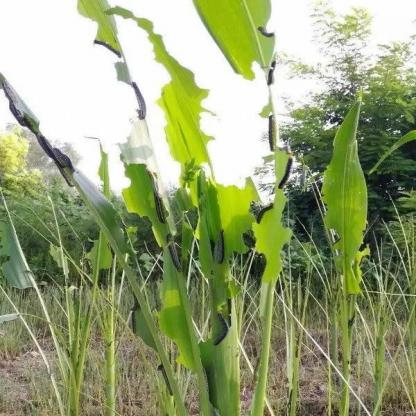armyworm: (146, 168, 169, 225), (130, 81, 151, 123), (93, 37, 126, 60), (276, 156, 296, 192), (166, 232, 184, 272), (48, 158, 71, 186), (54, 146, 76, 173), (213, 310, 229, 346), (214, 227, 228, 266), (157, 364, 173, 398), (7, 100, 27, 127), (256, 201, 276, 228), (265, 115, 277, 154), (36, 132, 53, 159), (23, 116, 39, 139), (268, 59, 279, 87), (258, 26, 278, 40), (128, 310, 139, 335), (2, 87, 17, 105), (129, 290, 140, 312)
